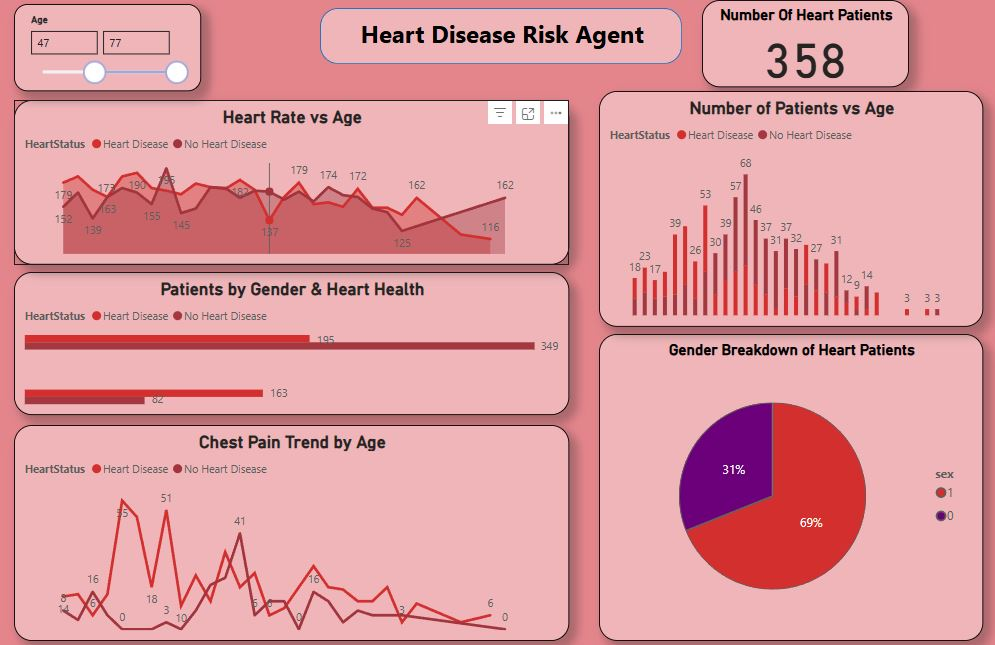

The page's visual inventory and layout, read from the dashboard file:
{"tool":"powerbi","page":{"name":"Page 1","canvas":[1280,720],"ordinal":0},"visuals":[{"type":"shape","box":[474.4,8.9,402.2,62.2],"z":0},{"type":"textbox","box":[514.4,13.3,340,53.3],"z":1000},{"type":"card","title":"Number Of Heart Patients","fields":{"Values":["heart.HeartPatients"]},"box":[898.9,0,230,96.7],"z":2000},{"type":"pieChart","title":"Gender Breakdown of Heart Patients","fields":{"Category":["heart.sex"],"Y":["CountNonNull(heart.target)"]},"box":[784.4,371.1,426.7,341.1],"z":3000},{"type":"clusteredBarChart","title":"Patients by Gender & Heart Health","fields":{"Category":["heart.sex"],"Y":["CountNonNull(heart.target)"],"Series":["heart.HeartStatus"]},"box":[134.4,302.2,616.7,158.9],"z":4000},{"type":"ribbonChart","title":"Number of Patients vs Age","fields":{"Category":["heart.age"],"Y":["CountNonNull(heart.target)"],"Series":["heart.HeartStatus"]},"box":[784.4,101.1,426.7,262.2],"z":5000},{"type":"areaChart","title":"Heart Rate vs Age","fields":{"Category":["heart.age"],"Series":["heart.HeartStatus"],"Y":["Max(heart.thalach)"]},"box":[134.4,111.1,616.7,183.3],"z":6000},{"type":"lineChart","title":"Chest Pain Trend by Age","fields":{"Category":["heart.age"],"Series":["heart.HeartStatus"],"Y":["Sum(heart.cp)"]},"box":[134.4,472.2,616.7,240],"z":7000},{"type":"slicer","fields":{"Values":["heart.age"]},"box":[134.4,4.4,207.8,96.7],"z":8000}]}

Visuals, with their boxes on the page's 1280x720 design canvas (x1, y1, x2, y2). These are canvas units, not pixel positions in the 995x645 screenshot, which may show the page scaled, cropped or inside an application window:
shape: bbox(474, 9, 877, 71)
textbox: bbox(514, 13, 854, 67)
"Number Of Heart Patients" card: bbox(899, 0, 1129, 97)
"Gender Breakdown of Heart Patients" pieChart: bbox(784, 371, 1211, 712)
"Patients by Gender & Heart Health" clusteredBarChart: bbox(134, 302, 751, 461)
"Number of Patients vs Age" ribbonChart: bbox(784, 101, 1211, 363)
"Heart Rate vs Age" areaChart: bbox(134, 111, 751, 294)
"Chest Pain Trend by Age" lineChart: bbox(134, 472, 751, 712)
slicer - heart.age: bbox(134, 4, 342, 101)
